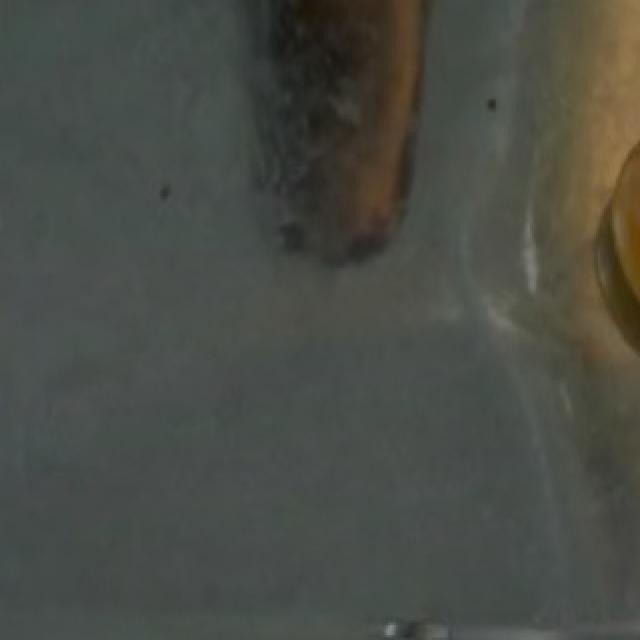Fruit: (582, 114, 640, 347)
